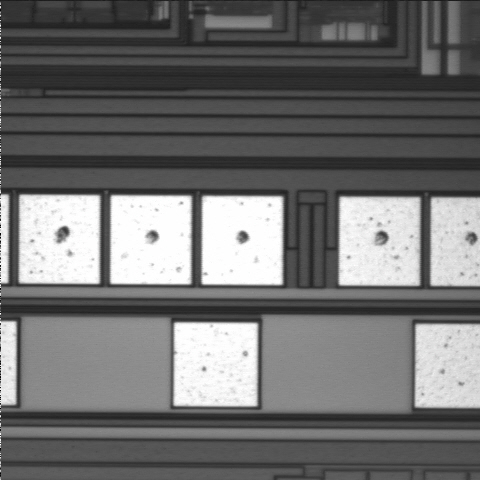pad: (110, 195, 192, 284), (19, 195, 100, 284), (202, 196, 283, 285), (339, 197, 420, 286), (174, 322, 258, 406)
